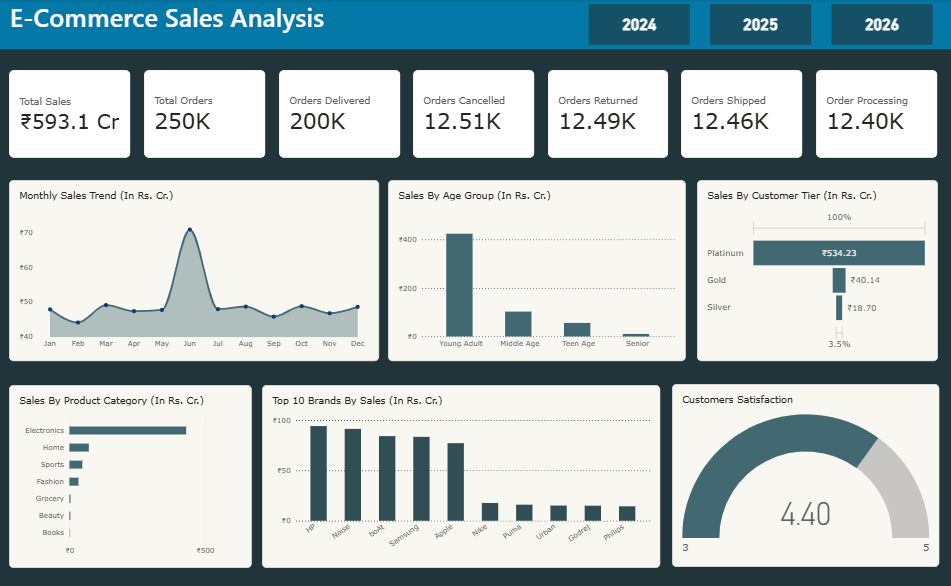

The page's visual inventory and layout, read from the dashboard file:
{"tool":"powerbi","page":{"name":"Dashboard","canvas":[1600,1000],"ordinal":0},"visuals":[{"type":"textbox","box":[0,0,1600,84.3],"z":0},{"type":"cardVisual","fields":{"Data":["sales.Revenue Display"]},"box":[22.4,118.7,203,148],"z":1000},{"type":"cardVisual","fields":{"Data":["sales.Total Orders"]},"box":[247.5,118.7,203,148],"z":2000},{"type":"cardVisual","fields":{"Data":["sales.Total Order Delivered"]},"box":[472.5,118.7,203,148],"z":3000},{"type":"cardVisual","fields":{"Data":["sales.Total Orders Cancelled"]},"box":[697.6,118.7,203,148],"z":4000},{"type":"cardVisual","fields":{"Data":["sales.Total Orders Returned"]},"box":[922.7,118.7,201.3,148],"z":5000},{"type":"cardVisual","fields":{"Data":["sales.Total Orders Shipped"]},"box":[1146.1,118.7,203,148],"z":6000},{"type":"lineChart","title":"Monthly Sales Trend (In Rs. Cr.)","fields":{"Category":["sales.Short Month"],"Y":["sales.Revenu In Cr."]},"box":[22.4,302.8,618.7,302.7],"z":7000},{"type":"clusteredBarChart","title":"Sales By Product Category (In Rs. Cr.)","fields":{"Category":["products.Category"],"Y":["sales.Revenu In Cr."]},"box":[22.4,645.2,406,306.2],"z":8000},{"type":"gauge","title":"Customers Satisfaction","fields":{"Y":["Avg(sales.Rating)"],"MinValue":["Min(sales.Rating)1"],"MaxValue":["Max(sales.Rating)"]},"box":[1130.4,643.8,447.3,306.2],"z":9000},{"type":"clusteredColumnChart","title":"Sales By Age Group (In Rs. Cr.)","fields":{"Category":["sales.Age Group"],"Y":["sales.Revenu In Cr."]},"box":[655.5,302.7,498.3,302.7],"z":10000},{"type":"clusteredColumnChart","title":"Top 10 Brands By Sales (In Rs. Cr.)","fields":{"Category":["products.Brand"],"Y":["sales.Revenu In Cr."]},"box":[444.8,645.5,665.6,306],"z":11000},{"type":"funnel","title":"Sales By Customer Tier (In Rs. Cr.)","fields":{"Category":["customers.Customer_Tier"],"Y":["sales.Revenu In Cr."]},"box":[1171.6,302.3,403,302.7],"z":12000},{"type":"advancedSlicerVisual","fields":{"Values":["sales.Order_Date.Variation.Date Hierarchy.Year"]},"box":[958.3,1.7,641.7,84.3],"z":13000},{"type":"cardVisual","fields":{"Data":["sales.Order Processing"]},"box":[1371.2,118.7,203,148],"z":14000}]}

Visuals, with their boxes in screenshot pixels (x1, y1, x2, y2), scaled from the page's 1600x1000 canvas onto the 951x586 screenshot:
textbox: box=[0, 0, 950, 49]
cardVisual - sales.Revenue Display: box=[13, 70, 134, 156]
cardVisual - sales.Total Orders: box=[147, 70, 268, 156]
cardVisual - sales.Total Order Delivered: box=[281, 70, 402, 156]
cardVisual - sales.Total Orders Cancelled: box=[415, 70, 535, 156]
cardVisual - sales.Total Orders Returned: box=[548, 70, 668, 156]
cardVisual - sales.Total Orders Shipped: box=[681, 70, 802, 156]
"Monthly Sales Trend (In Rs. Cr.)" lineChart: box=[13, 177, 381, 355]
"Sales By Product Category (In Rs. Cr.)" clusteredBarChart: box=[13, 378, 255, 558]
"Customers Satisfaction" gauge: box=[672, 377, 938, 557]
"Sales By Age Group (In Rs. Cr.)" clusteredColumnChart: box=[390, 177, 686, 355]
"Top 10 Brands By Sales (In Rs. Cr.)" clusteredColumnChart: box=[264, 378, 660, 558]
"Sales By Customer Tier (In Rs. Cr.)" funnel: box=[696, 177, 936, 355]
advancedSlicerVisual - sales.Order_Date.Variation.Date Hierarchy.Year: box=[570, 1, 950, 50]
cardVisual - sales.Order Processing: box=[815, 70, 936, 156]
